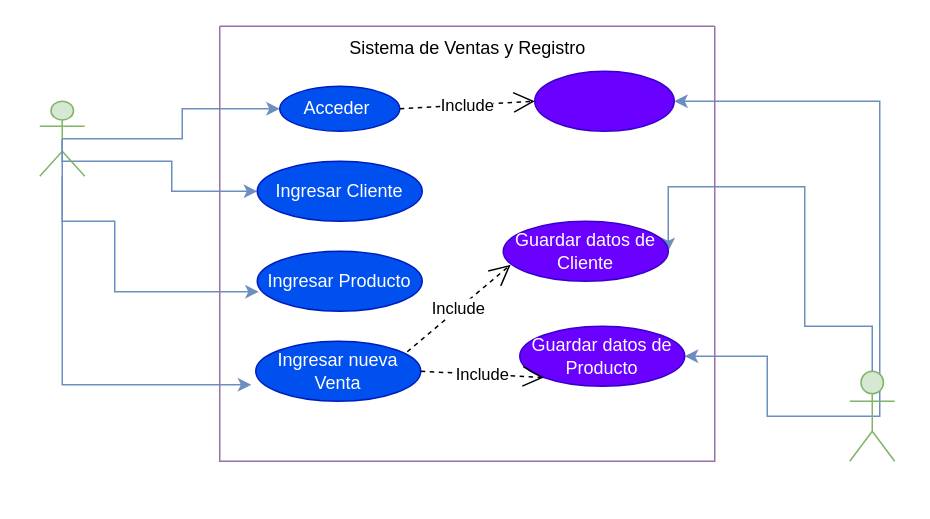
This 930x519 diagram has some shape labels left out. Here are the shapes that lost their labels. From the top down, the centre of each, then its label:
the point at 603,100: Usuario y Contraseña
the point at 61,138: Empresa
the point at 871,415: Sistema
